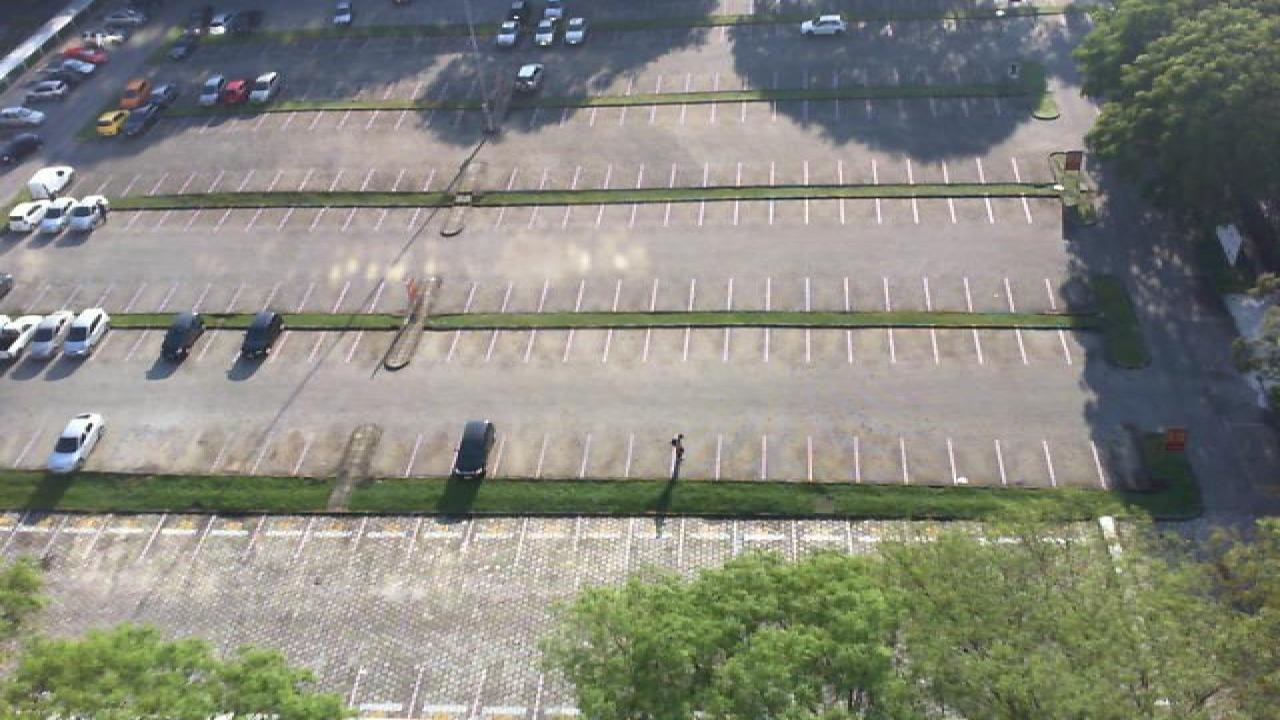Car: (46, 413, 106, 474), (450, 420, 498, 480), (54, 307, 110, 356), (238, 310, 288, 362), (160, 310, 206, 364), (16, 313, 70, 359), (28, 166, 78, 202), (122, 102, 172, 136), (6, 194, 50, 230), (38, 196, 80, 232), (70, 194, 110, 230), (242, 70, 280, 106), (0, 315, 32, 355), (218, 11, 264, 37), (0, 105, 46, 130), (20, 80, 70, 103), (172, 10, 210, 40), (94, 108, 132, 137), (194, 72, 228, 104), (510, 63, 546, 93), (800, 13, 848, 35), (118, 79, 152, 108), (100, 8, 146, 29), (218, 76, 248, 107), (60, 43, 106, 63), (44, 61, 88, 81), (84, 26, 126, 45), (530, 17, 556, 46), (494, 20, 522, 46), (564, 20, 588, 45), (330, 1, 354, 25), (502, 0, 524, 21), (540, 0, 562, 18)
